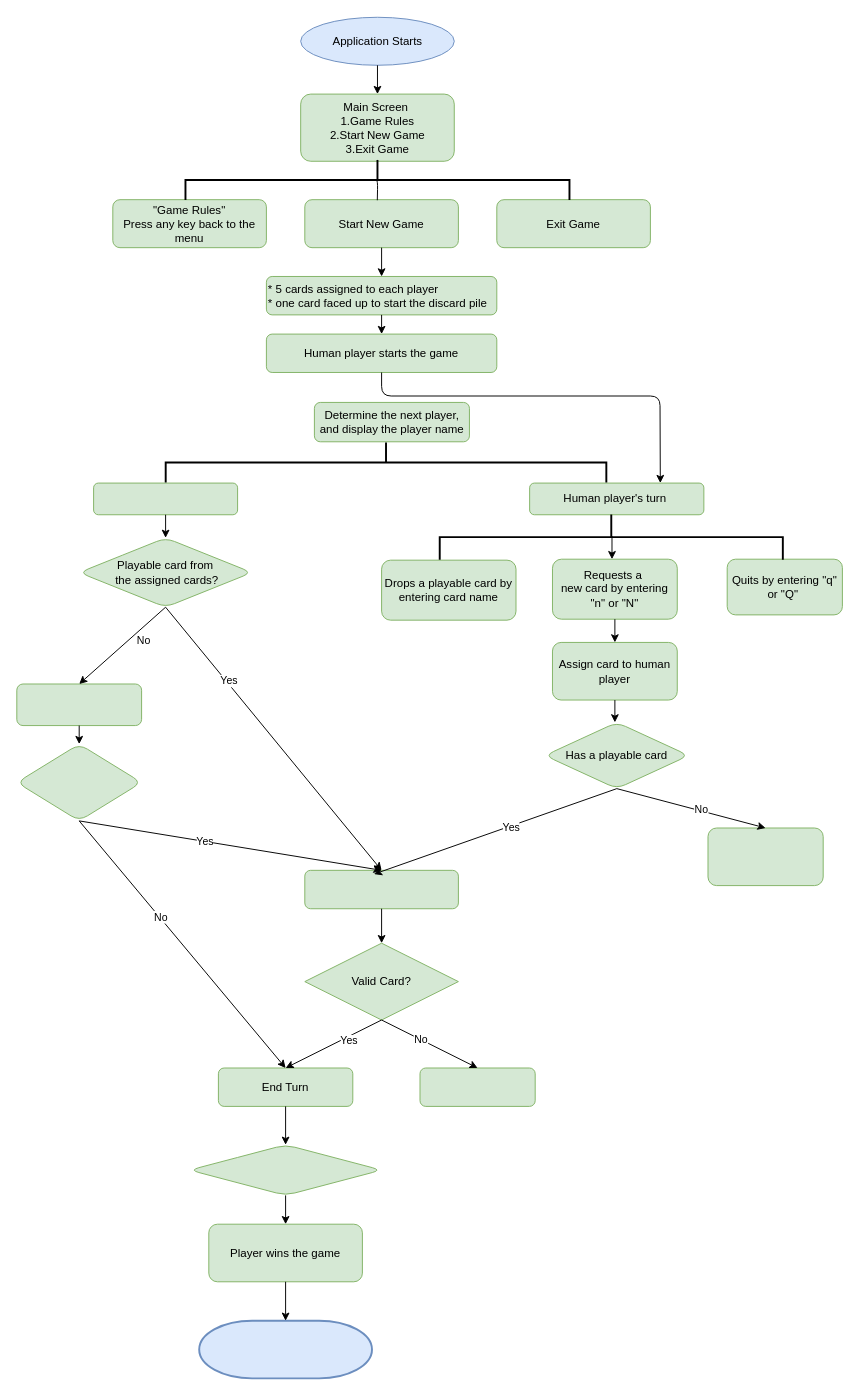
Image size: 859x1396. Some labels were removed from this diagram. Here are the shapes that lost their labels. From the top down, the centre of each, then its label:
At point 165,498: "Computer player's turn".
At point 79,704: "Draws a new card".
At point 79,782: "Playable card?".
At point 765,856: "Requests to end turn by entering 'e' or 'E'".
At point 381,889: "Discard a playable card".
At point 477,1086: "Invalid card warning".
At point 285,1169: "The updated card list is empty?".
At point 285,1349: "End Game".
